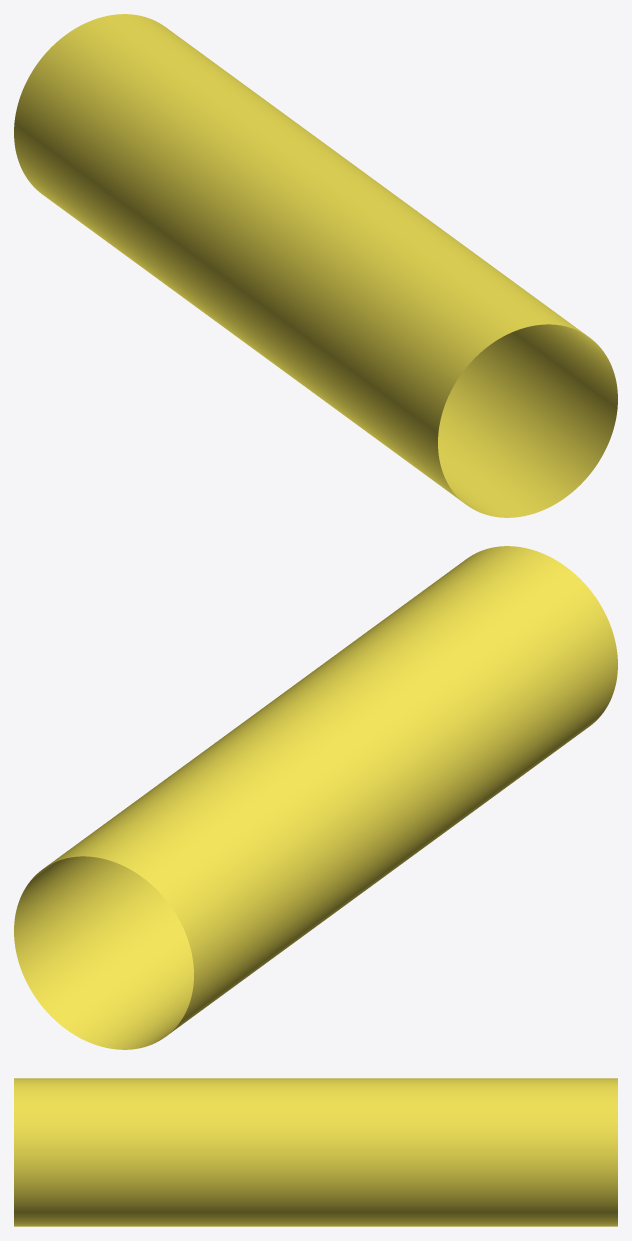
Rendered from molly_Label.glb.
3 renders of one model, top to bottom at view 1: azimuth 30°, elevation 25°; view 2: azimuth 150°, elevation 25°; view 3: azimuth 270°, elevation 25°, orthographic. The views are drawn at different scales.
Visible parts, largest first — view 1: Label; view 2: Label; view 3: Label.
Part boxes in pixels (x1,y1,x2,y2): Label: (14,14,617,517); Label: (14,546,617,1049); Label: (14,1078,617,1226).
Size of the model in its own units: 2.38 by 2.38 by 9.72.
1 material, 1 textured.
